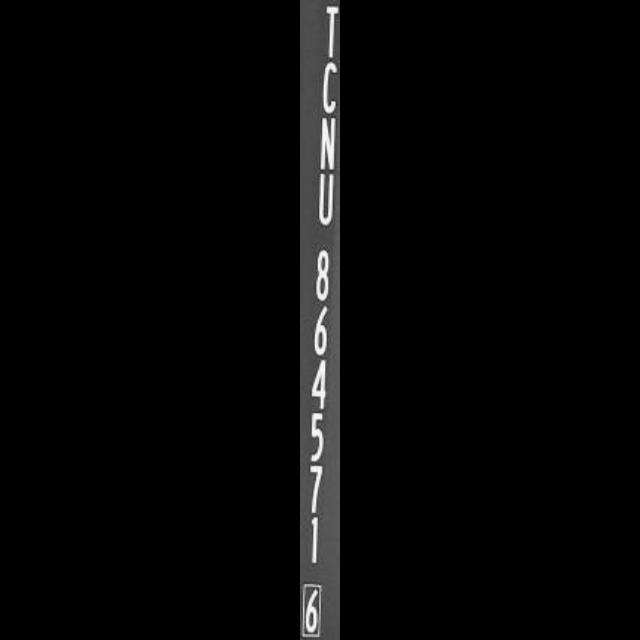1: (306, 512, 324, 562)
4: (308, 356, 334, 412)
5: (306, 410, 334, 466)
6: (309, 303, 336, 355), (304, 582, 328, 640)
7: (303, 464, 329, 514)
8: (310, 244, 336, 302)
c: (314, 57, 341, 116)
n: (316, 115, 340, 169)
t: (319, 0, 341, 66)
u: (314, 168, 341, 226)
